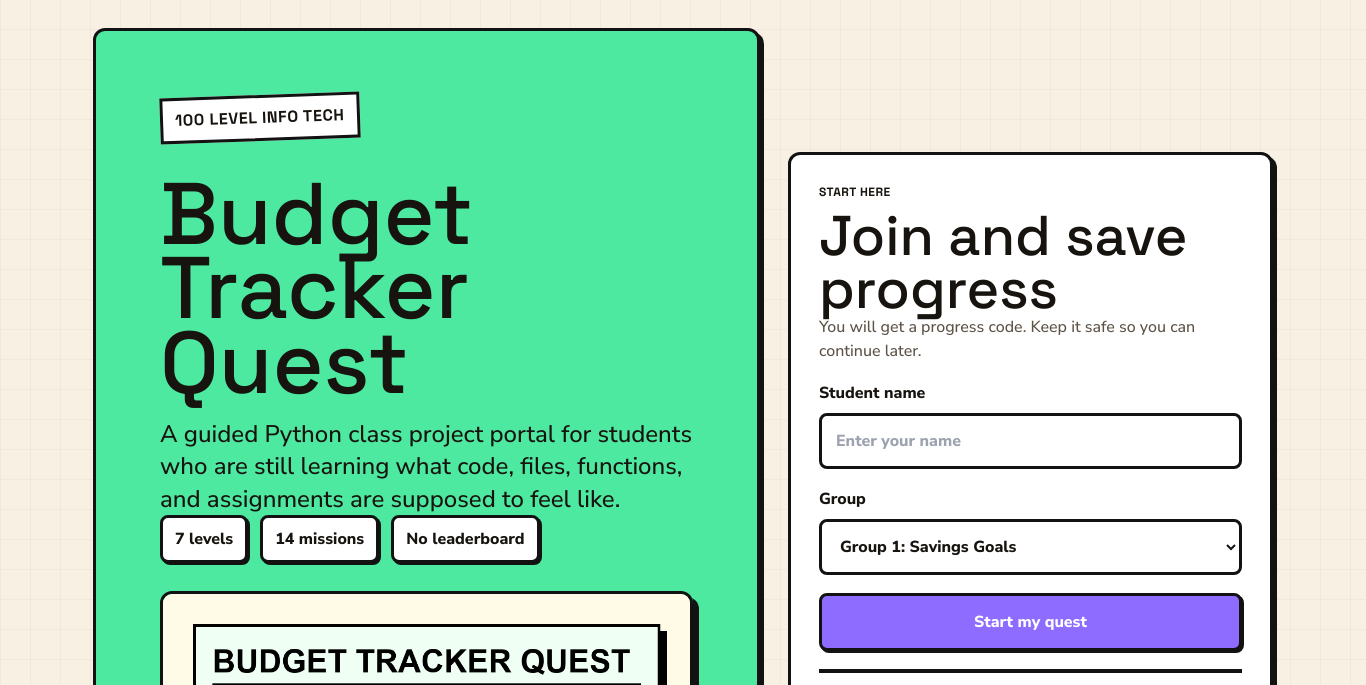
Test: Budget Tracker Quest portal › requires students to copy their progress code before entering the quest dashboard
Type "Ada Student" into the field labelled "Student name" at x=1030, y=441, box [819,413,1242,469]
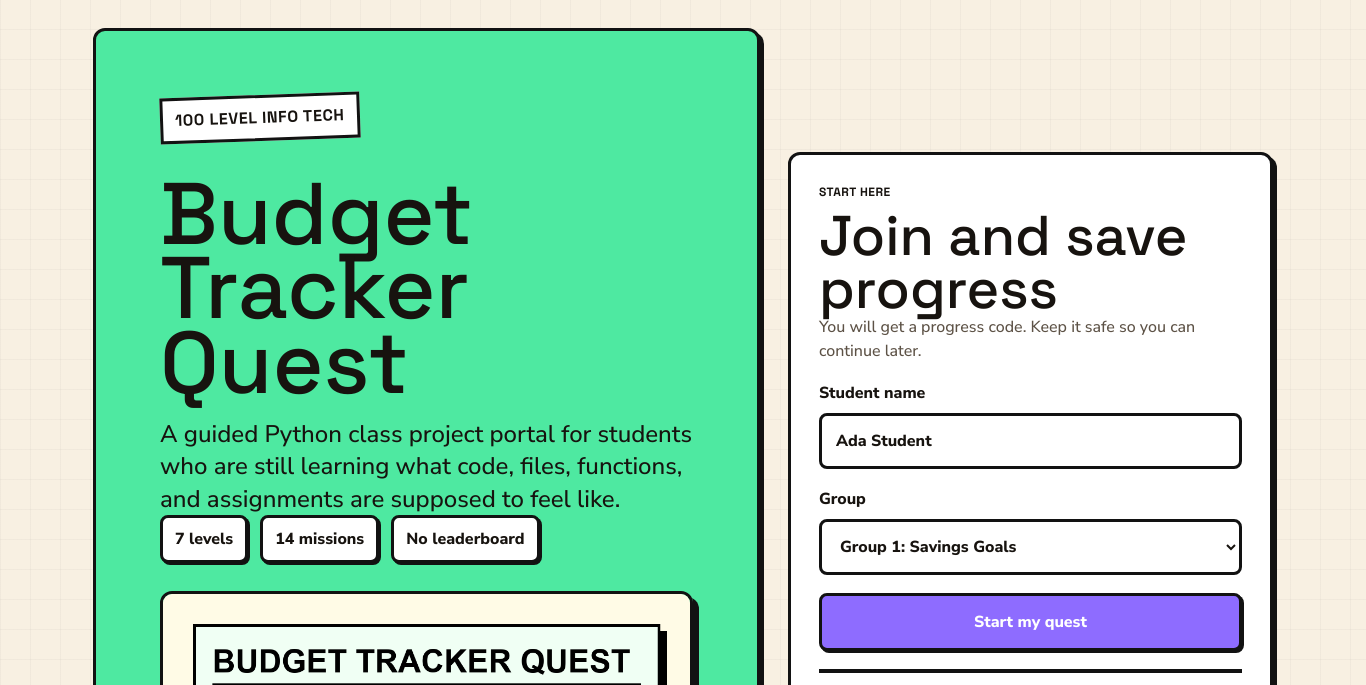
Select "Group 8: Needs Wants Savings" in the dropdown labelled "Group" at x=1030, y=547, box [819,519,1242,575]
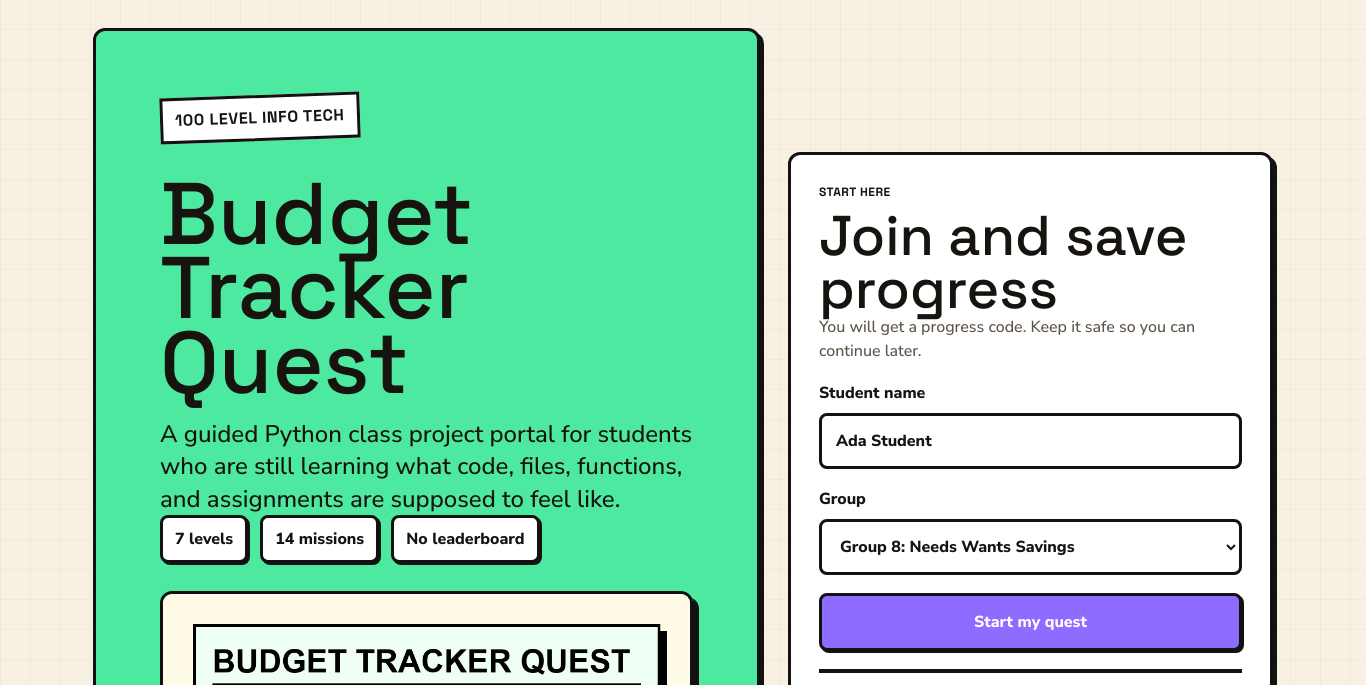
Click the button "Start my quest" at x=1030, y=622, box [819,593,1242,651]
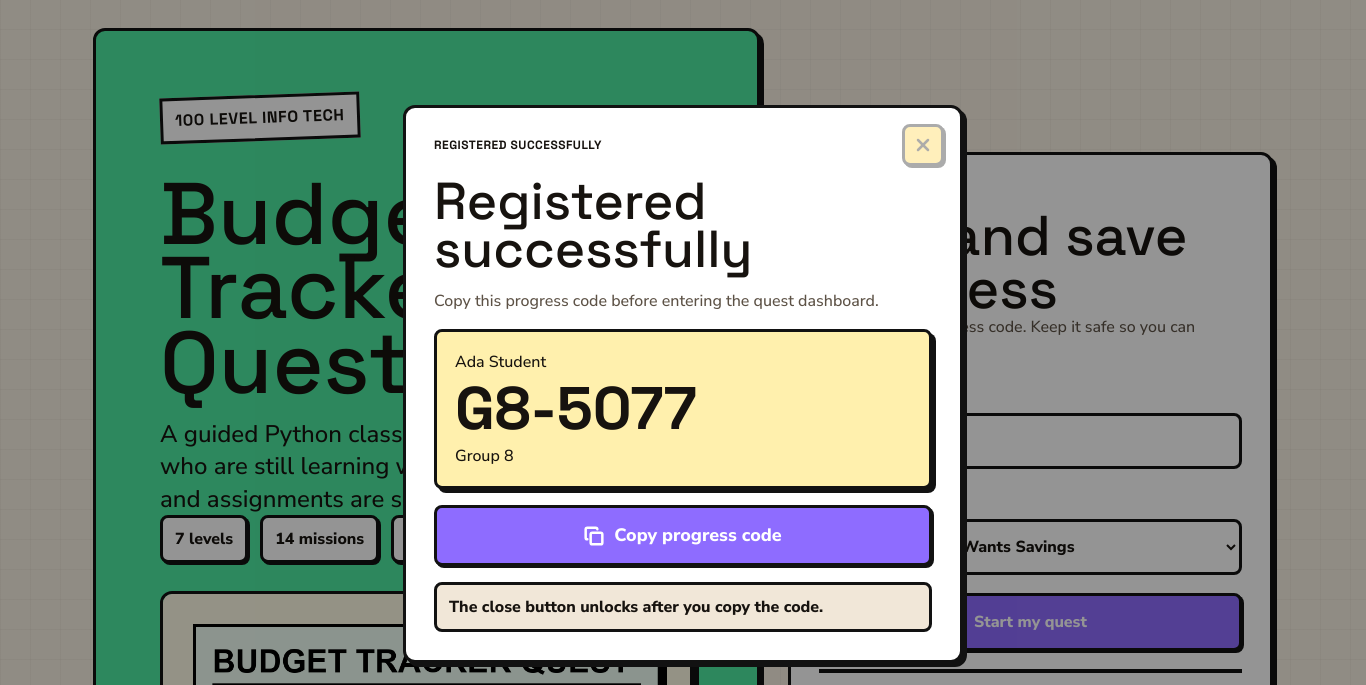
Now the dialog "Registered Successfully" is shown, box [403,105,963,663]
Now the button named "close registration dialog" is disabled, box [902,124,944,166]
Click the button "Copy progress code" at x=683, y=536, box [434,505,932,566]
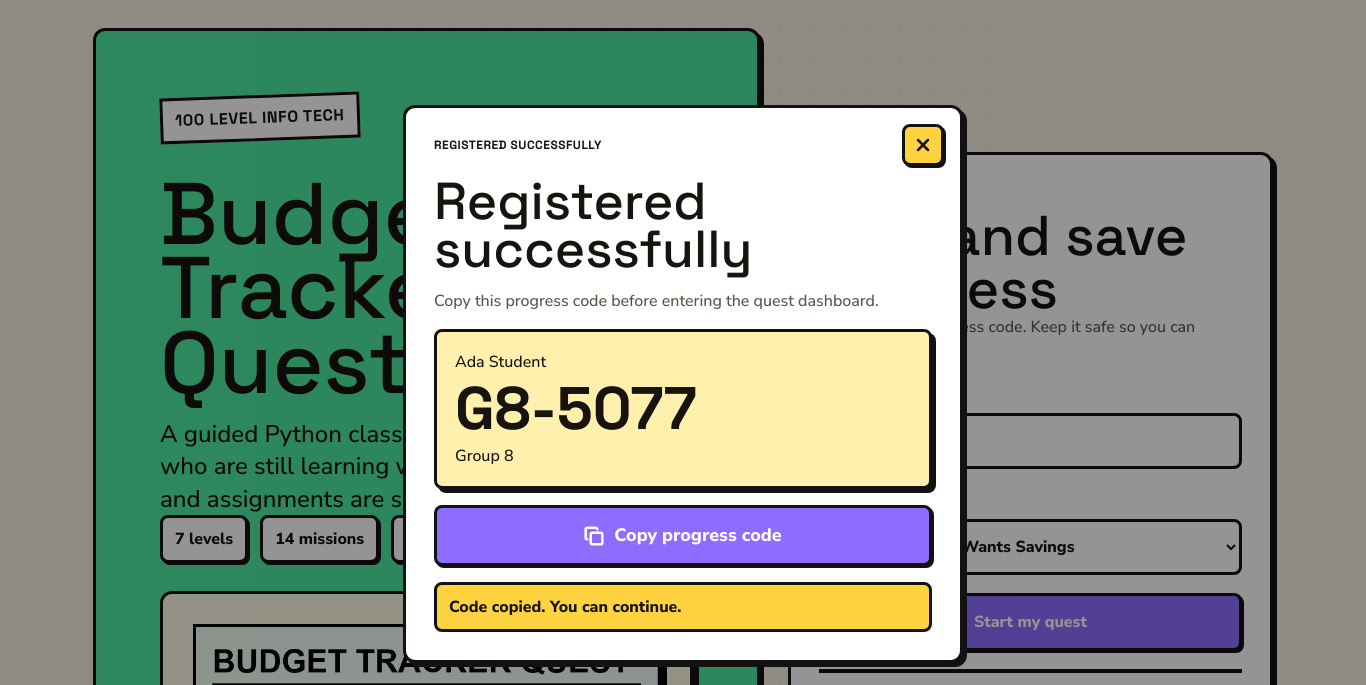
Now the text "Code copied. You can continue." is shown, box [434,582,932,632]
Now the button named "close registration dialog" is enabled
Click the button named "close registration dialog" at x=923, y=145, box [902,124,944,166]
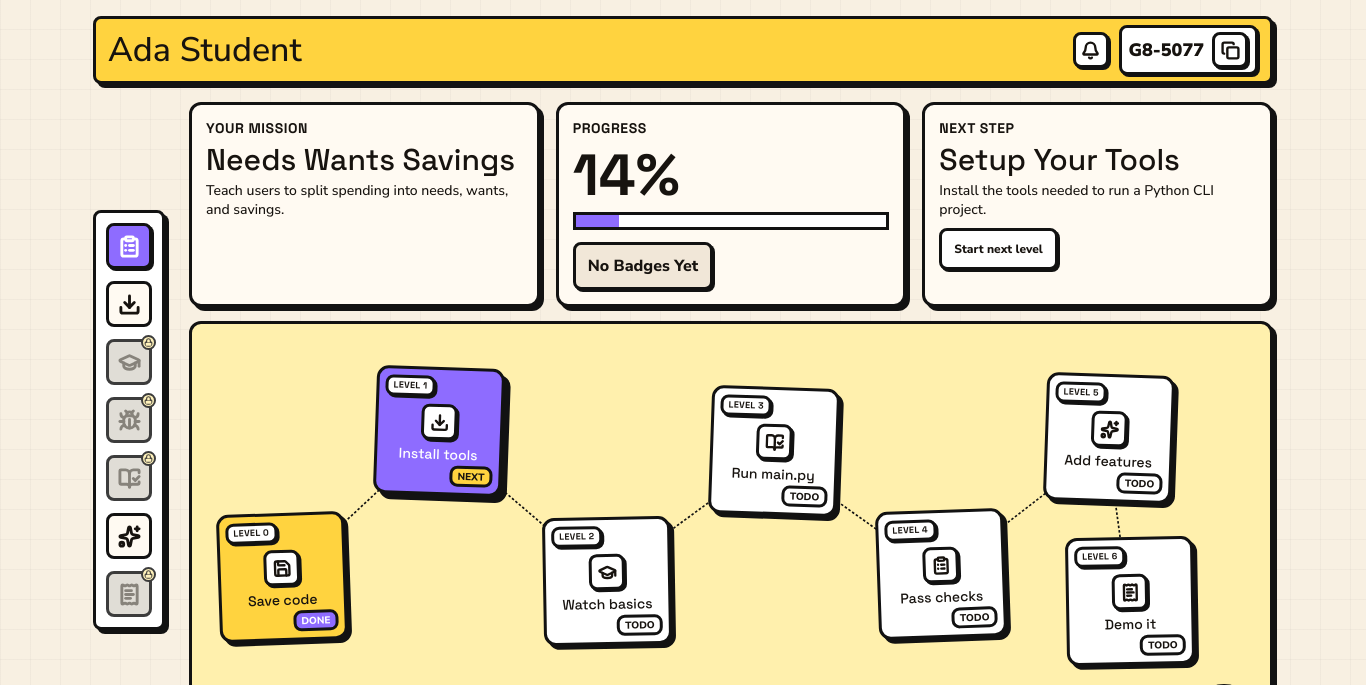
Now the heading "Ada Student" is shown, box [108,27,302,73]
Now the heading "Needs Wants Savings" is shown, box [206,146,523,174]
